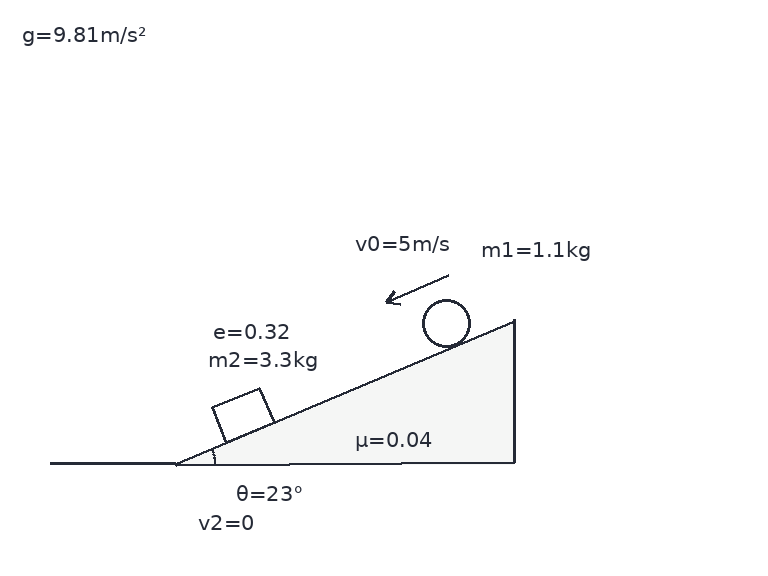ball: (420, 297, 472, 349)
block: (210, 386, 276, 444)
ramp: (173, 318, 516, 466)
